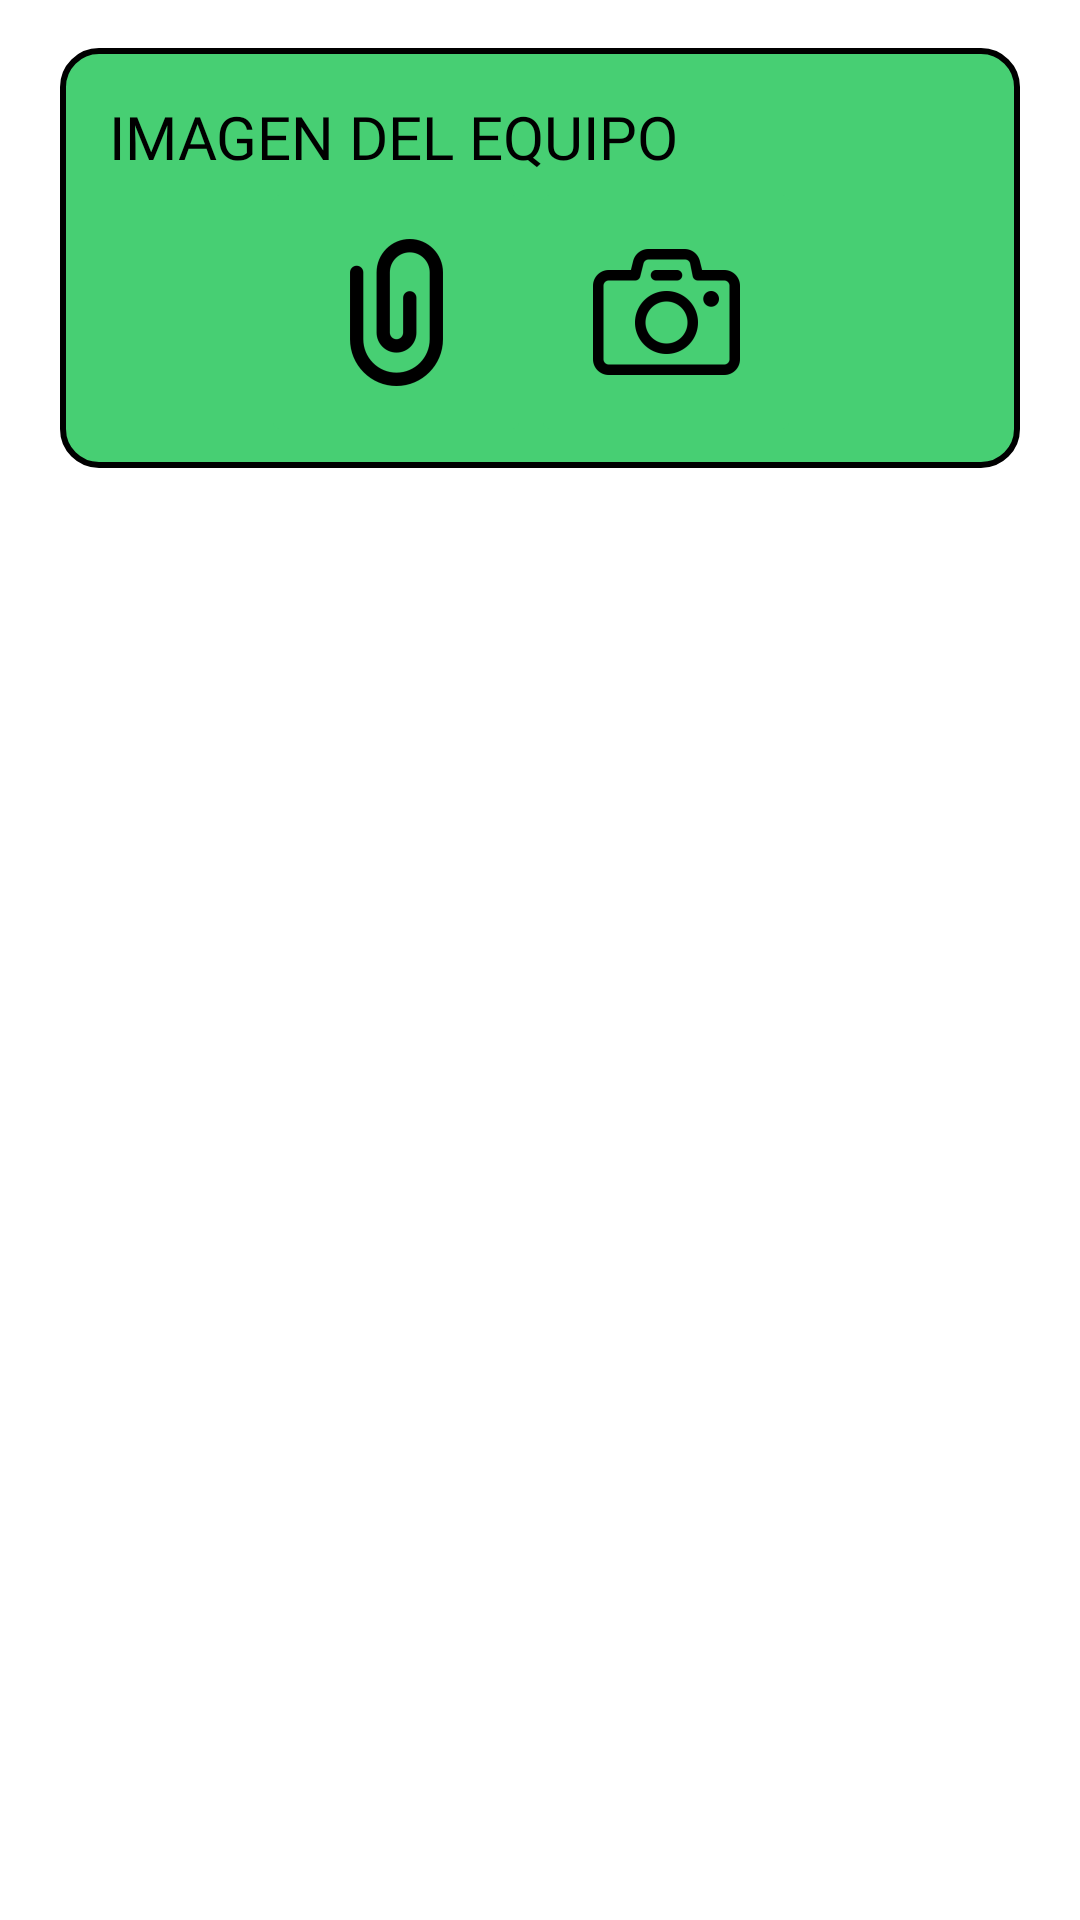

Icons on this 1080x1920 Android screen, each with its box as bbox=(x1, y1, x2, y2):
camera: bbox=(593, 249, 740, 375)
paperclip: bbox=(350, 239, 443, 386)
